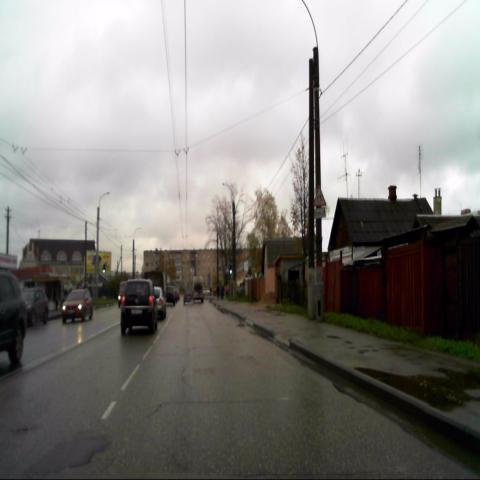1_23: (313, 185, 326, 207)
